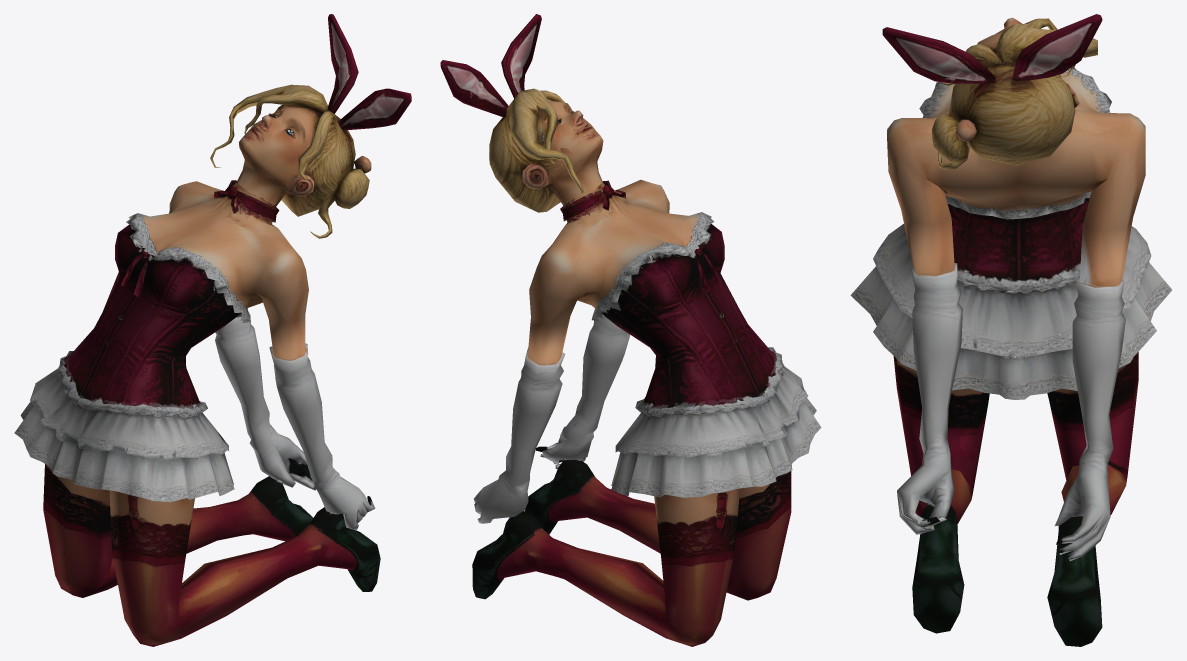
3 renders of one model, left to right at view 1: azimuth 30°, elevation 25°; view 2: azimuth 150°, elevation 25°; view 3: azimuth 270°, elevation 25°, orthographic. The views are drawn at different scales.
Visible parts, largest first — view 1: tripo_node_a73f4528-edb2-4b25-8aaf-28fd2c52c9ad; view 2: tripo_node_a73f4528-edb2-4b25-8aaf-28fd2c52c9ad; view 3: tripo_node_a73f4528-edb2-4b25-8aaf-28fd2c52c9ad.
Part boxes in pixels (left/top/right/bottom): tripo_node_a73f4528-edb2-4b25-8aaf-28fd2c52c9ad: left=14, top=14, right=411, bottom=646; tripo_node_a73f4528-edb2-4b25-8aaf-28fd2c52c9ad: left=440, top=14, right=821, bottom=646; tripo_node_a73f4528-edb2-4b25-8aaf-28fd2c52c9ad: left=850, top=14, right=1171, bottom=646.
Size of the model in its own units: 62.3 by 99.8 by 44.73.
Materials: 1 (1 with a texture image).
